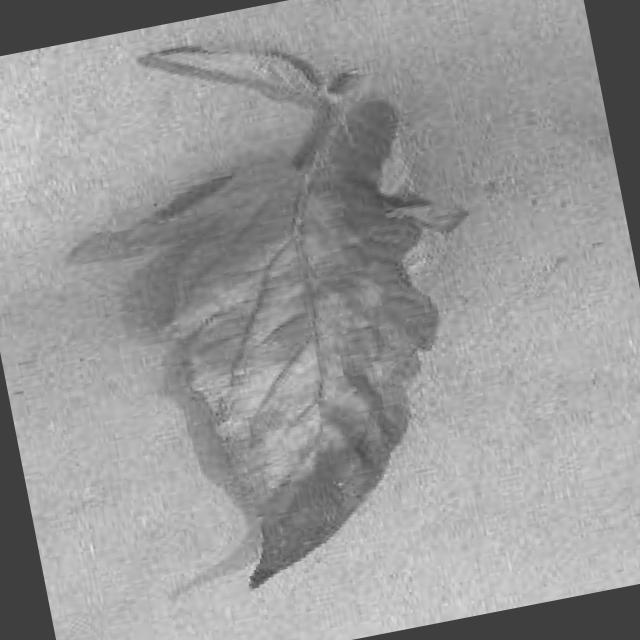leaf mold: (119, 50, 461, 596)
